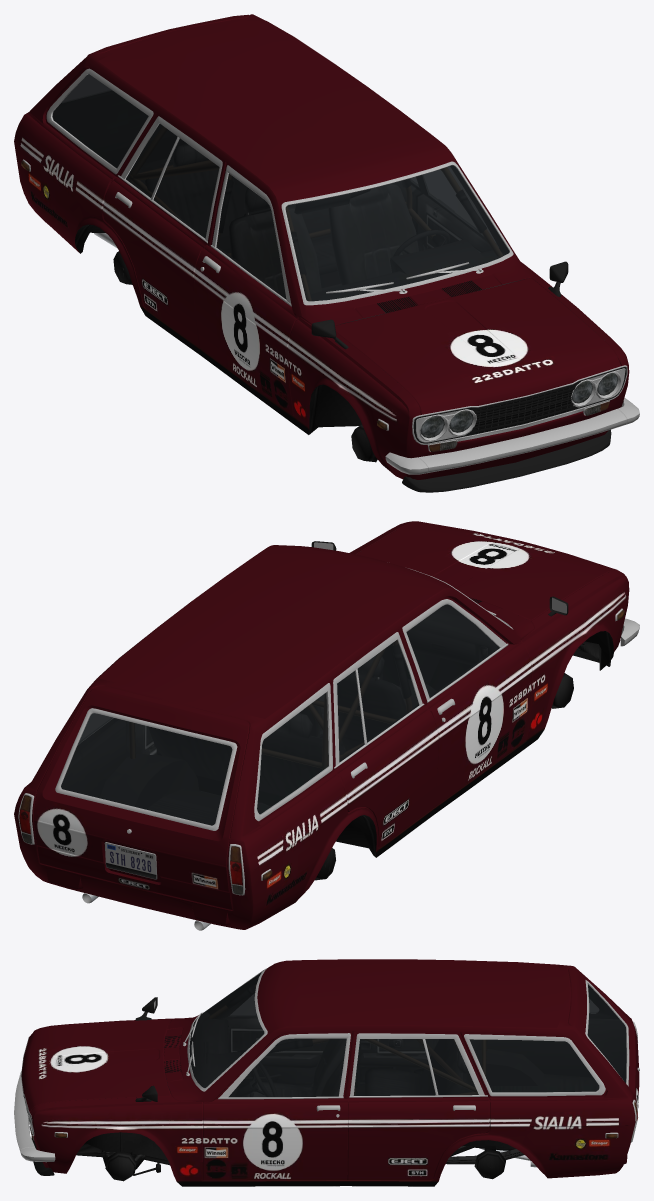
Rendered from sialia.glb.
The picture shows the model from 3 angles, top to bottom: view 1: azimuth 30°, elevation 25°; view 2: azimuth 150°, elevation 25°; view 3: azimuth 270°, elevation 25°; orthographic projection. The views are drawn at different scales.
Parts seen in each view (by area): view 1: part7, part3, part0, part6, part5; view 2: part7, part3, part6, part0, part1; view 3: part7, part3, part6, part0.
Part boxes in pixels (box(x1,y1,x2,y2)): part7: box(14, 14, 629, 479); part3: box(52, 74, 617, 438); part0: box(21, 68, 639, 492); part6: box(53, 91, 508, 312); part5: box(420, 373, 617, 450); part7: box(14, 521, 629, 929); part3: box(61, 604, 499, 825); part6: box(61, 604, 499, 825); part0: box(18, 541, 639, 930); part1: box(104, 842, 157, 879); part7: box(21, 959, 639, 1186); part3: box(26, 972, 626, 1124); part6: box(190, 973, 626, 1096); part0: box(14, 968, 639, 1186).
Bounding box in the file's own units: 1.49 × 1.16 × 4.07.
Materials: 8 (8 with a texture image).
